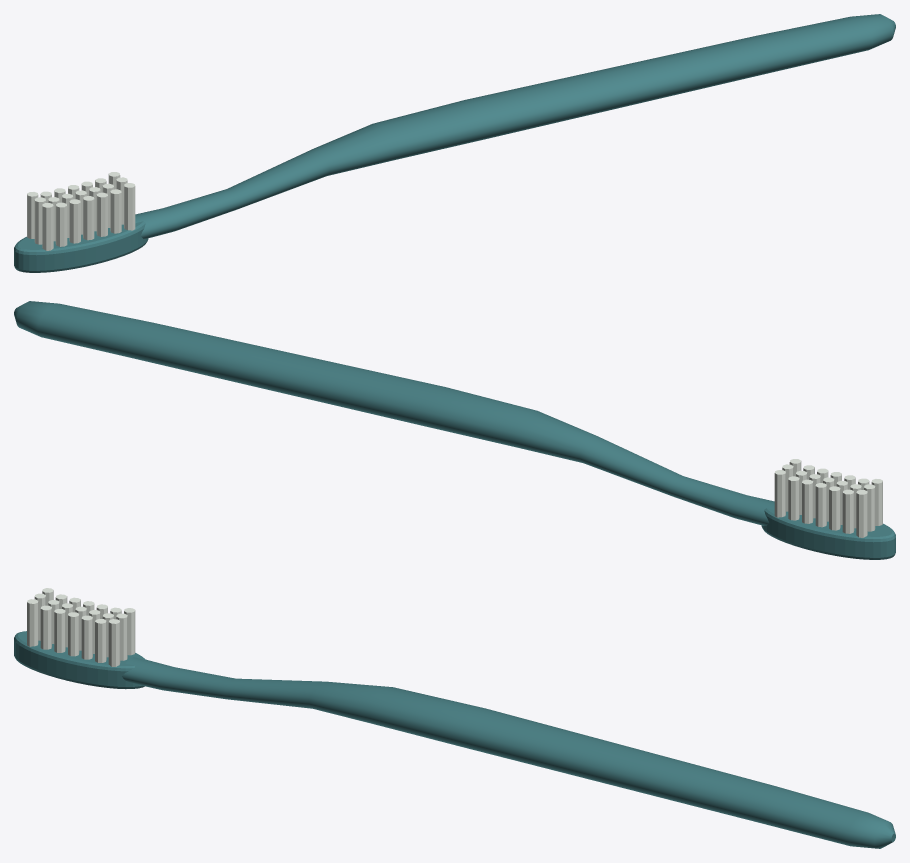
File: EASY-B002.glb
The picture shows the model from 3 angles, top to bottom: view 1: azimuth 30°, elevation 25°; view 2: azimuth 150°, elevation 25°; view 3: azimuth 330°, elevation 25°; orthographic projection.
Visible parts, largest first — view 1: Long_grip_and_narrow_neck, Small_oval_head, Bristle_bundle_0_0, Bristle_bundle_0_1, Bristle_bundle_0_6, Bristle_bundle_0_2, Bristle_bundle_0_5, Bristle_bundle_0_4; view 2: Long_grip_and_narrow_neck, Small_oval_head, Bristle_bundle_2_0, Bristle_bundle_2_1, Bristle_bundle_2_6, Bristle_bundle_2_2, Bristle_bundle_2_5, Bristle_bundle_2_4; view 3: Long_grip_and_narrow_neck, Small_oval_head, Bristle_bundle_0_6, Bristle_bundle_0_0.
Boxes of the visible parts, left/top/right/bottom form: Long_grip_and_narrow_neck: left=135, top=14, right=895, bottom=238; Small_oval_head: left=14, top=221, right=148, bottom=272; Bristle_bundle_0_0: left=42, top=203, right=53, bottom=250; Bristle_bundle_0_1: left=55, top=202, right=67, bottom=246; Bristle_bundle_0_6: left=124, top=183, right=135, bottom=230; Bristle_bundle_0_2: left=69, top=199, right=80, bottom=243; Bristle_bundle_0_5: left=110, top=189, right=121, bottom=233; Bristle_bundle_0_4: left=96, top=192, right=107, bottom=236; Long_grip_and_narrow_neck: left=14, top=301, right=774, bottom=525; Small_oval_head: left=761, top=508, right=895, bottom=559; Bristle_bundle_2_0: left=856, top=490, right=867, bottom=537; Bristle_bundle_2_1: left=842, top=489, right=854, bottom=533; Bristle_bundle_2_6: left=774, top=470, right=785, bottom=517; Bristle_bundle_2_2: left=829, top=486, right=840, bottom=530; Bristle_bundle_2_5: left=788, top=476, right=799, bottom=520; Bristle_bundle_2_4: left=802, top=479, right=813, bottom=523; Long_grip_and_narrow_neck: left=122, top=657, right=895, bottom=848; Small_oval_head: left=14, top=631, right=145, bottom=689; Bristle_bundle_0_6: left=108, top=619, right=120, bottom=666; Bristle_bundle_0_0: left=27, top=599, right=38, bottom=646.
Size of the model in its own units: 0.1805 by 0.0129 by 0.011.
